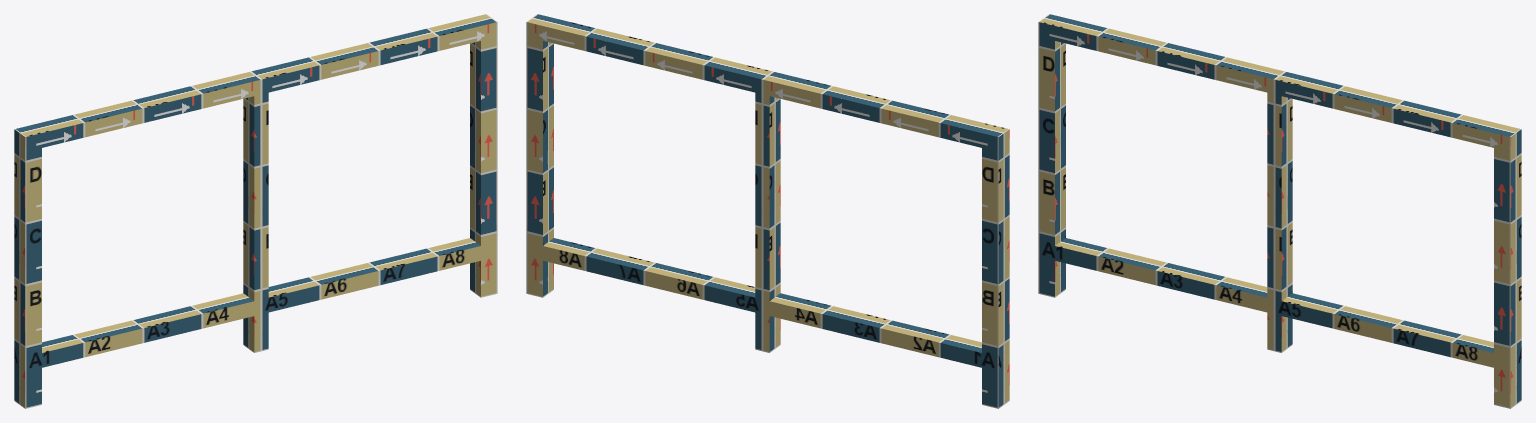
File: DETAIL_BalconyRail.fbx
3 views of the same model, side by side, from view 1: azimuth 30°, elevation 25°; view 2: azimuth 150°, elevation 25°; view 3: azimuth 330°, elevation 25° (orthographic).
Visible parts, largest first — view 1: DETAIL_BalconyRail; view 2: DETAIL_BalconyRail; view 3: DETAIL_BalconyRail.
Boxes of the visible parts, <box> form: DETAIL_BalconyRail: <box>14,14,497,408</box>; DETAIL_BalconyRail: <box>526,14,1009,408</box>; DETAIL_BalconyRail: <box>1038,14,1521,408</box>.
Bounding box in the file's own units: 200 × 110 × 8.
1 material, 1 textured.
